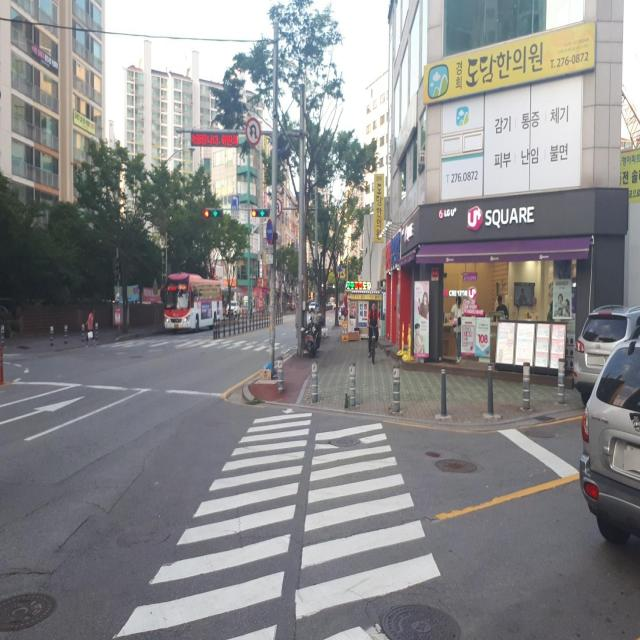횡단보도: (114, 407, 441, 640), (118, 328, 290, 350)
